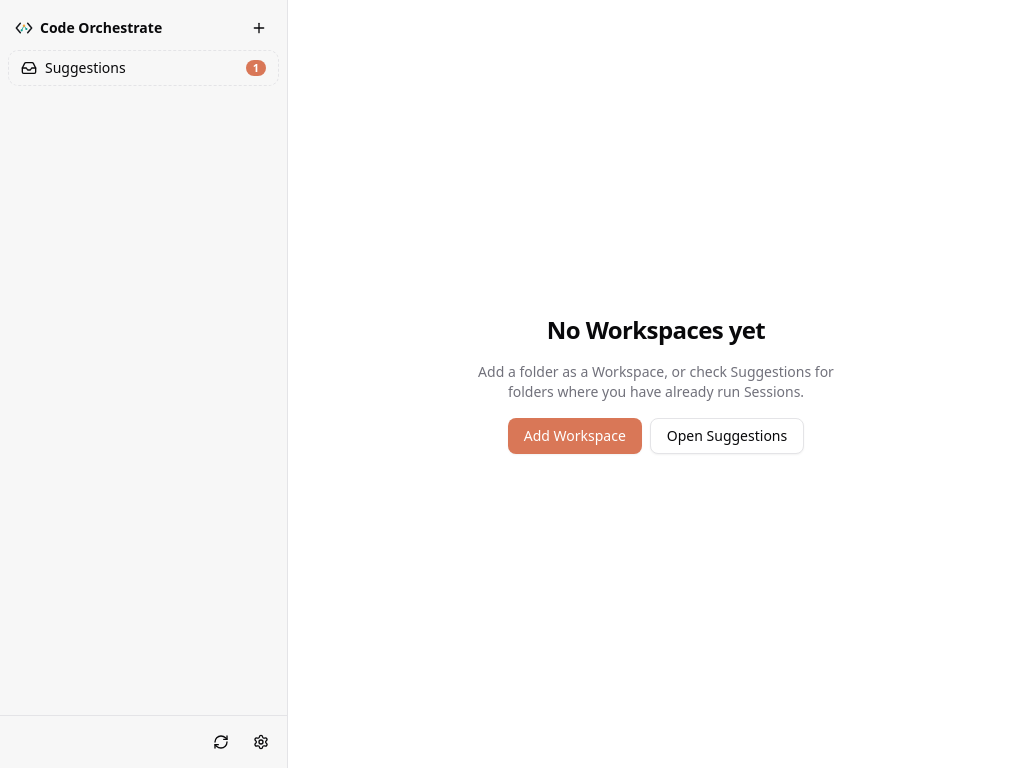
Test: Suggestions inbox › lists each Suggestion with its path, Session count and last seen
Click the button "Suggestions 1".
click(85, 68)  # box 8,50 -> 279,86
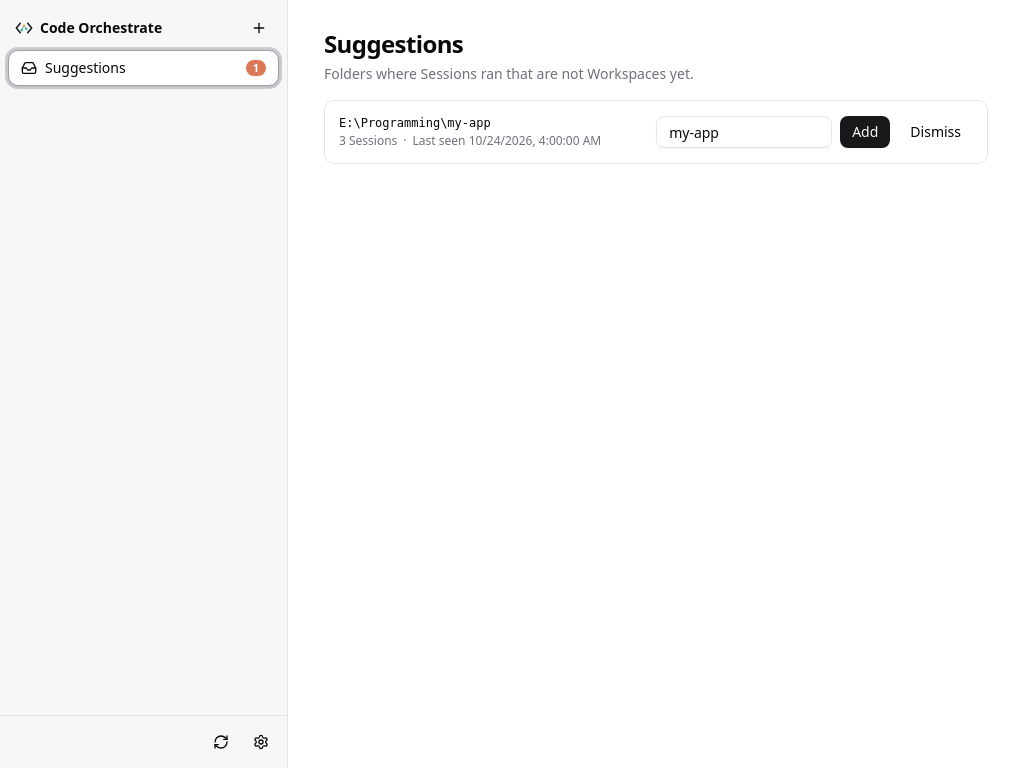
Expected: the text "E:\\Programming\\my-app" is shown, 339,115 -> 491,131
Expected: the text "3 Sessions" is shown, 339,133 -> 397,149
